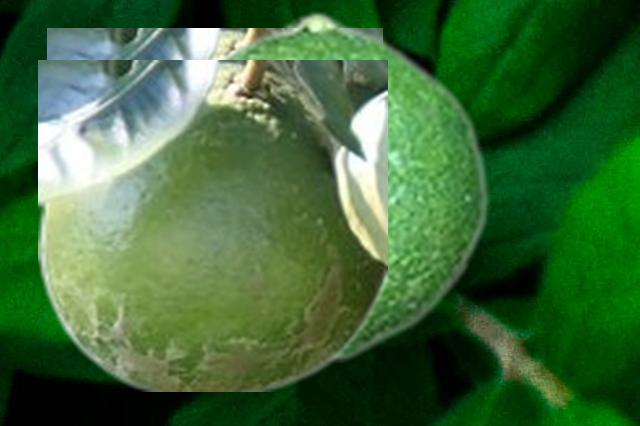dalandan: (38, 60, 386, 390), (209, 10, 489, 361), (47, 28, 381, 59)
